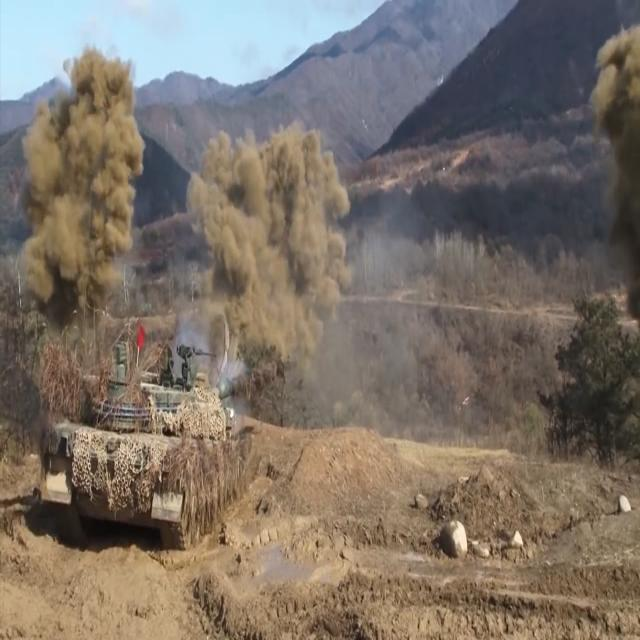korea tank: (38, 339, 298, 551)
